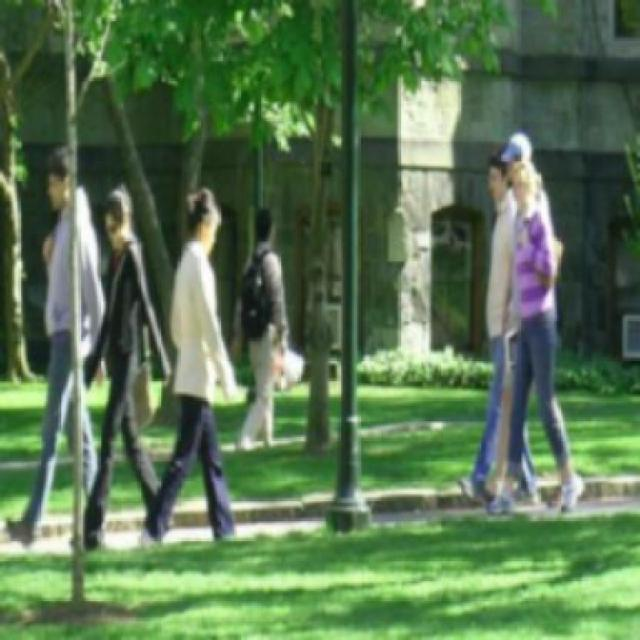Person: (10, 152, 96, 546), (154, 182, 235, 573), (81, 179, 157, 550), (510, 165, 585, 520), (230, 199, 302, 455), (456, 147, 499, 527)
